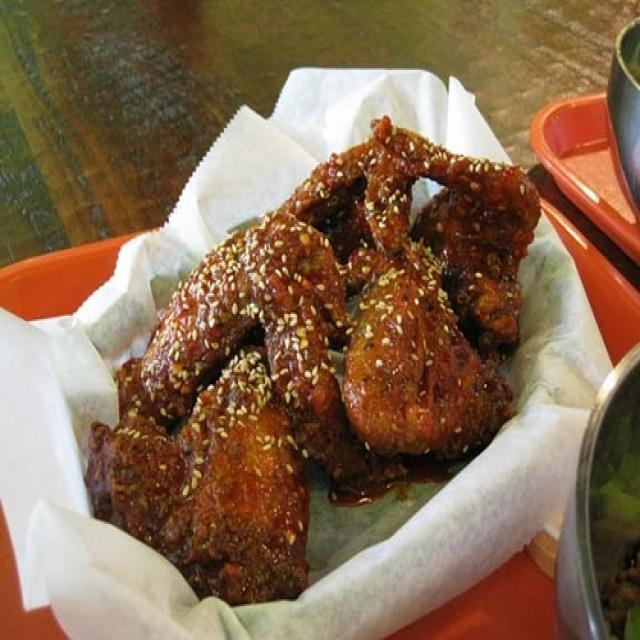Deep fried chicken wing: (104, 130, 534, 562)
